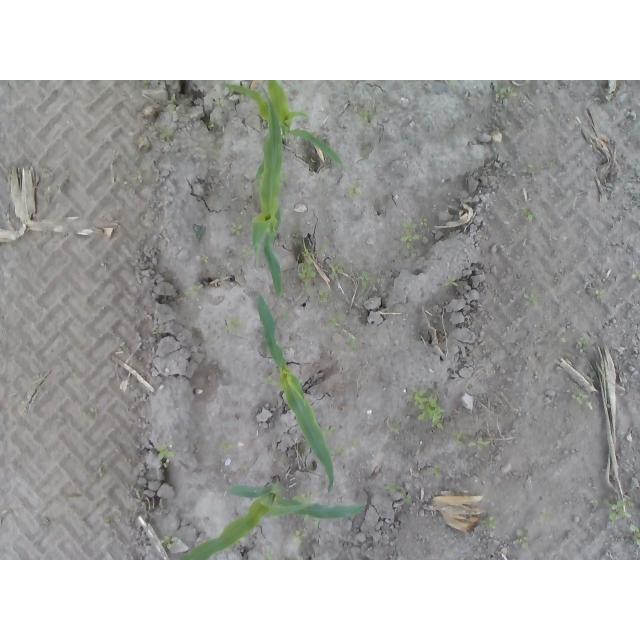Maize: (252, 292, 337, 493), (191, 476, 370, 560), (226, 80, 344, 168), (250, 85, 289, 299)
Weeds: (411, 389, 447, 430), (296, 244, 320, 284), (401, 217, 428, 244), (451, 431, 490, 449), (383, 483, 413, 505), (607, 500, 633, 521), (574, 390, 594, 410), (512, 527, 527, 549), (316, 287, 333, 305), (357, 271, 373, 290), (289, 530, 306, 547), (629, 524, 640, 549), (158, 126, 175, 142), (224, 319, 241, 334), (482, 513, 496, 531), (357, 111, 371, 129), (525, 294, 544, 307), (158, 447, 175, 461), (329, 261, 343, 276), (522, 206, 535, 222), (432, 464, 444, 481), (264, 376, 280, 388), (167, 94, 177, 113), (527, 160, 538, 177), (161, 535, 174, 549), (445, 276, 460, 288), (218, 439, 234, 450), (496, 87, 512, 98), (579, 335, 588, 354), (327, 316, 340, 329), (230, 223, 243, 236), (323, 428, 336, 441), (390, 421, 403, 433), (187, 287, 201, 298), (131, 175, 145, 185), (241, 247, 252, 257), (594, 289, 603, 300), (448, 80, 460, 88), (216, 99, 225, 109), (315, 518, 322, 530), (631, 270, 640, 279), (200, 255, 209, 264), (152, 329, 160, 337)
